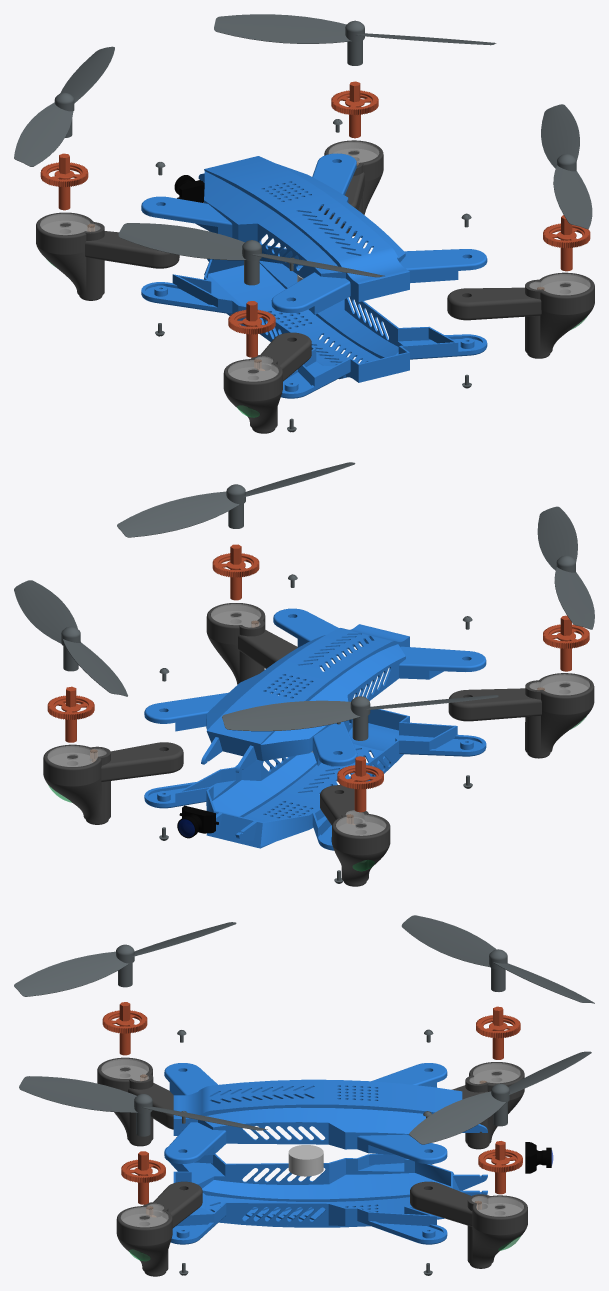
The model's file is Drone_ex.glb.
3 views of the same model, one above another, from view 1: azimuth 30°, elevation 25°; view 2: azimuth 150°, elevation 25°; view 3: azimuth 270°, elevation 25° (orthographic). The views are drawn at different scales.
Parts seen in each view (by area): view 1: Main-frame_MIR, Main-frame, Leg.011, Leg.009, Leg.005, Impellar-Blade.003, Impellar-Blade.001, Impellar-Blade.002, Impellar-Blade, Leg.007, Arm-gear.003, Arm-gear.004 (+7 smaller); view 2: Main-frame_MIR, Main-frame, Leg.005, Leg.007, Impellar-Blade.002, Impellar-Blade, Leg.011, Leg.009, Impellar-Blade.003, Impellar-Blade.001, Arm-gear.003, Arm-gear (+7 smaller); view 3: Main-frame_MIR, Main-frame, Leg.007, Leg.011, Impellar-Blade, Impellar-Blade.001, Impellar-Blade.002, Impellar-Blade.003, Leg.005, Leg.009, Arm-gear.002, Arm-gear.003 (+8 smaller).
Boxes of the visible parts, left/top/right/bottom form: Main-frame_MIR: left=141, top=153, right=487, bottom=314; Main-frame: left=141, top=245, right=487, bottom=398; Leg.011: left=447, top=272, right=594, bottom=358; Leg.009: left=36, top=212, right=179, bottom=300; Leg.005: left=223, top=332, right=311, bottom=433; Impellar-Blade.003: left=214, top=14, right=496, bottom=65; Impellar-Blade.001: left=118, top=223, right=384, bottom=285; Impellar-Blade.002: left=14, top=46, right=114, bottom=166; Impellar-Blade: left=541, top=104, right=592, bottom=229; Leg.007: left=319, top=140, right=383, bottom=236; Arm-gear.003: left=40, top=153, right=88, bottom=210; Arm-gear.004: left=331, top=81, right=378, bottom=138; Main-frame_MIR: left=144, top=608, right=486, bottom=772; Main-frame: left=144, top=696, right=486, bottom=850; Leg.005: left=448, top=673, right=594, bottom=758; Leg.007: left=43, top=742, right=183, bottom=824; Impellar-Blade.002: left=222, top=695, right=498, bottom=740; Impellar-Blade: left=117, top=462, right=355, bottom=537; Leg.011: left=206, top=603, right=297, bottom=684; Leg.009: left=320, top=785, right=390, bottom=886; Impellar-Blade.003: left=14, top=580, right=127, bottom=696; Impellar-Blade.001: left=537, top=506, right=594, bottom=629; Arm-gear.003: left=337, top=756, right=383, bottom=812; Arm-gear: left=212, top=544, right=259, bottom=600; Main-frame_MIR: left=164, top=1063, right=487, bottom=1163; Main-frame: left=164, top=1144, right=487, bottom=1244; Leg.007: left=410, top=1181, right=527, bottom=1268; Leg.011: left=116, top=1181, right=202, bottom=1276; Impellar-Blade: left=19, top=1076, right=267, bottom=1136; Impellar-Blade.001: left=14, top=922, right=236, bottom=996; Impellar-Blade.002: left=401, top=915, right=594, bottom=1003; Impellar-Blade.003: left=409, top=1051, right=591, bottom=1144; Leg.005: left=97, top=1057, right=173, bottom=1146; Leg.009: left=452, top=1062, right=524, bottom=1149; Arm-gear.002: left=102, top=1002, right=147, bottom=1055; Arm-gear.003: left=476, top=1006, right=520, bottom=1059.
Size of the model in its own units: 0.2837 by 0.1284 by 0.312.
